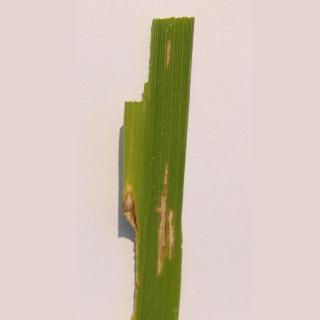Hawar-Daun: (152, 159, 182, 303), (114, 172, 141, 290), (158, 33, 176, 65)
